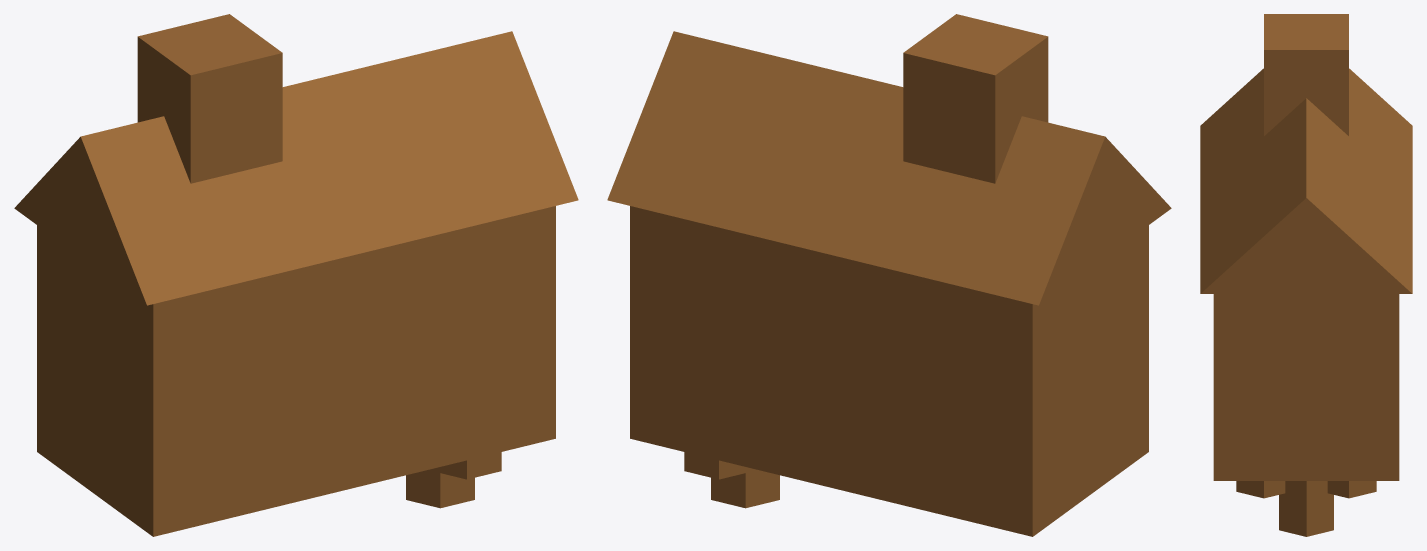
File: sawmill.obj
3 renders of one model, left to right at view 1: azimuth 30°, elevation 25°; view 2: azimuth 150°, elevation 25°; view 3: azimuth 270°, elevation 25°, orthographic. The views are drawn at different scales.
Bounding box in the file's own units: 0.75 × 0.835 × 0.4.
